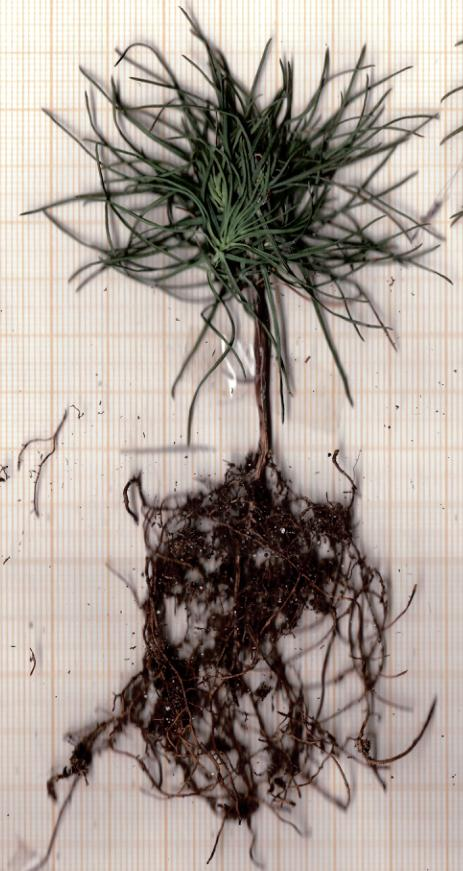flower: (8, 0, 461, 320)
root: (42, 449, 446, 871)
stem: (236, 289, 293, 454)
